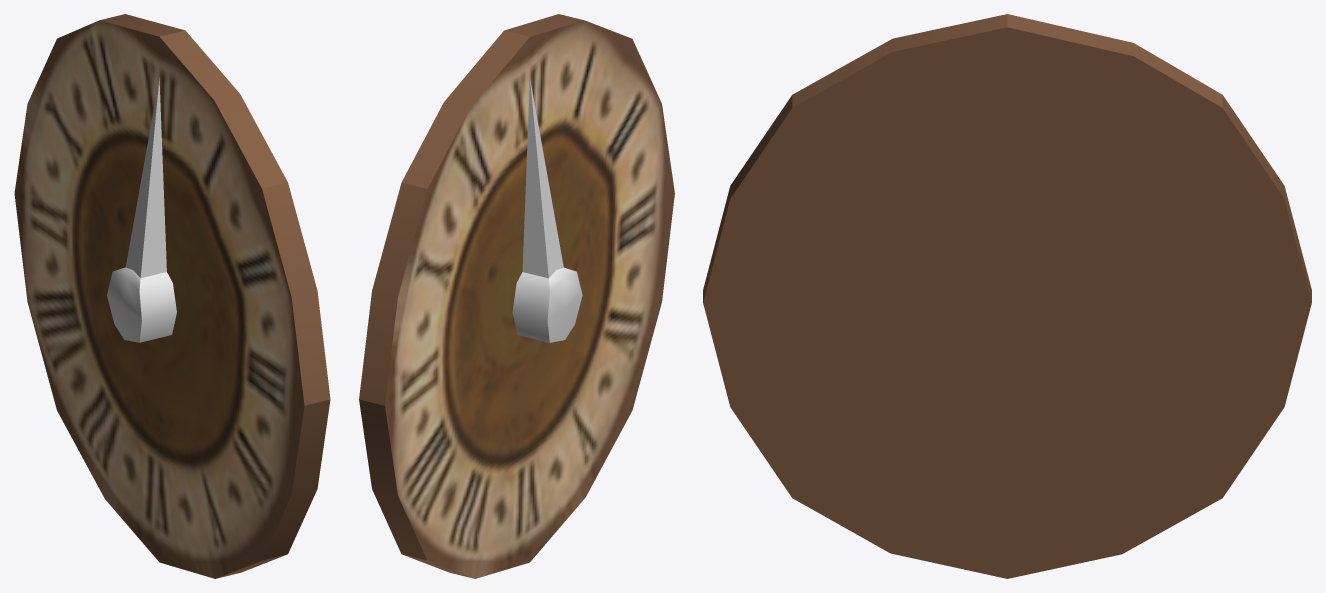
File: Clocks.fbx
3 renders of one model, left to right at view 1: azimuth 30°, elevation 25°; view 2: azimuth 150°, elevation 25°; view 3: azimuth 270°, elevation 25°, orthographic. The views are drawn at different scales.
Parts seen in each view (by area): view 1: ClockBody, ClockArrow; view 2: ClockBody, ClockArrow; view 3: ClockBody.
Boxes of the visible parts, box(x1,y1,x2,y2) form: ClockBody: box(14, 14, 330, 578); ClockArrow: box(107, 77, 176, 342); ClockBody: box(359, 14, 674, 578); ClockArrow: box(512, 78, 582, 342); ClockBody: box(703, 14, 1311, 578).
Bounding box in the file's own units: 12 × 98.72 × 98.72.
